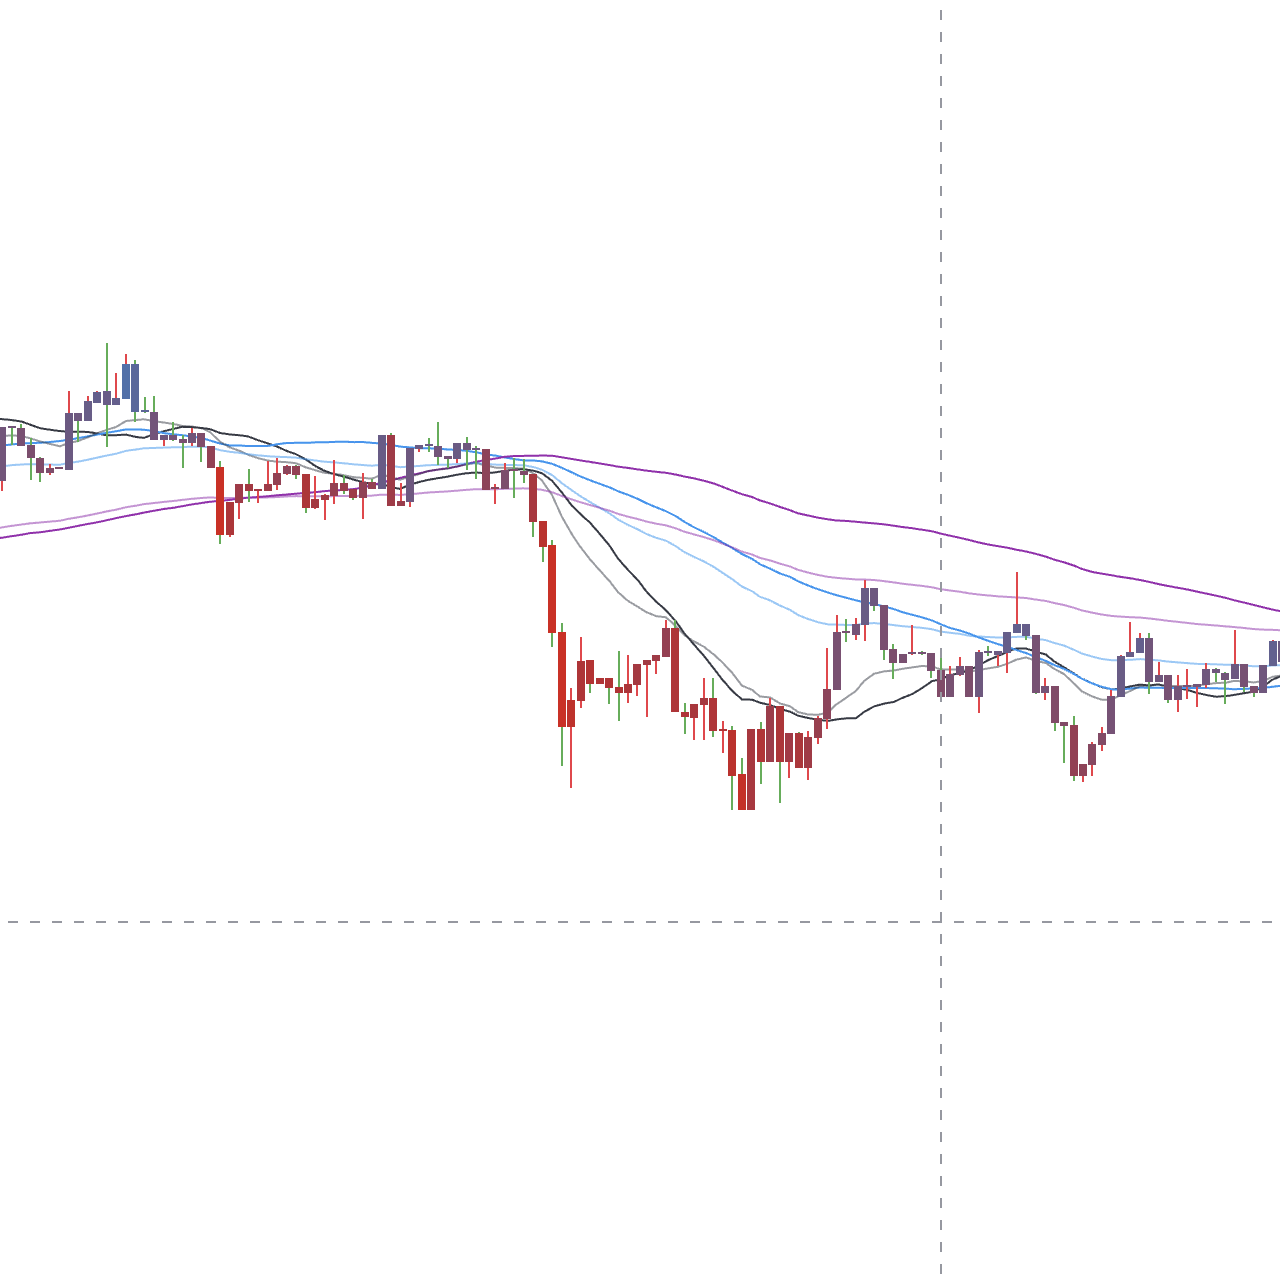ma_cluster: (435, 428, 560, 517)
